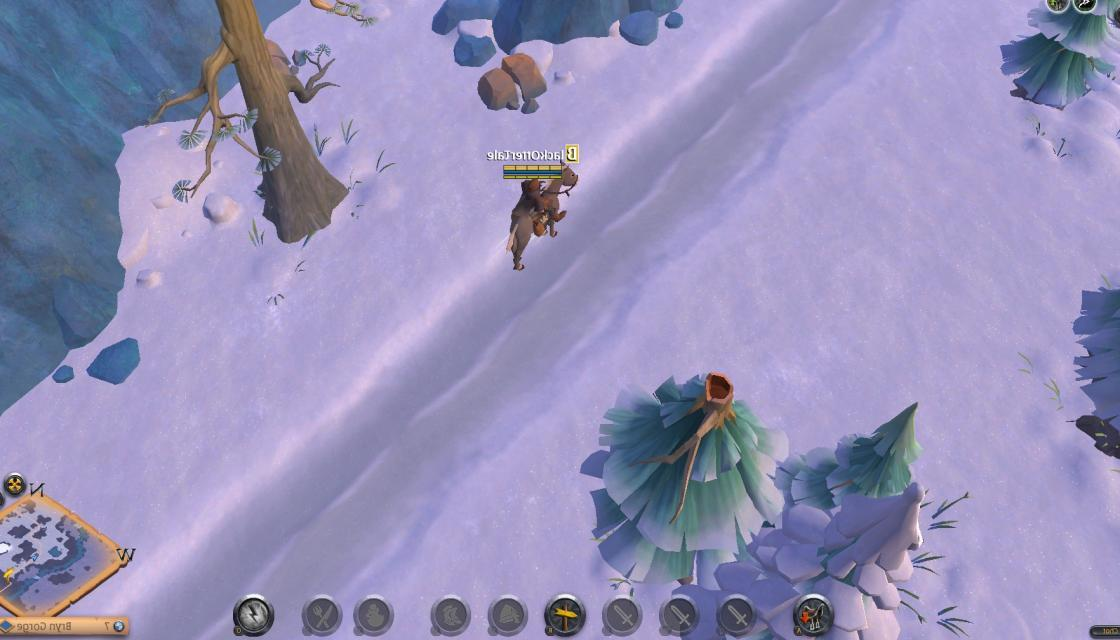limestone: (476, 46, 549, 116)
